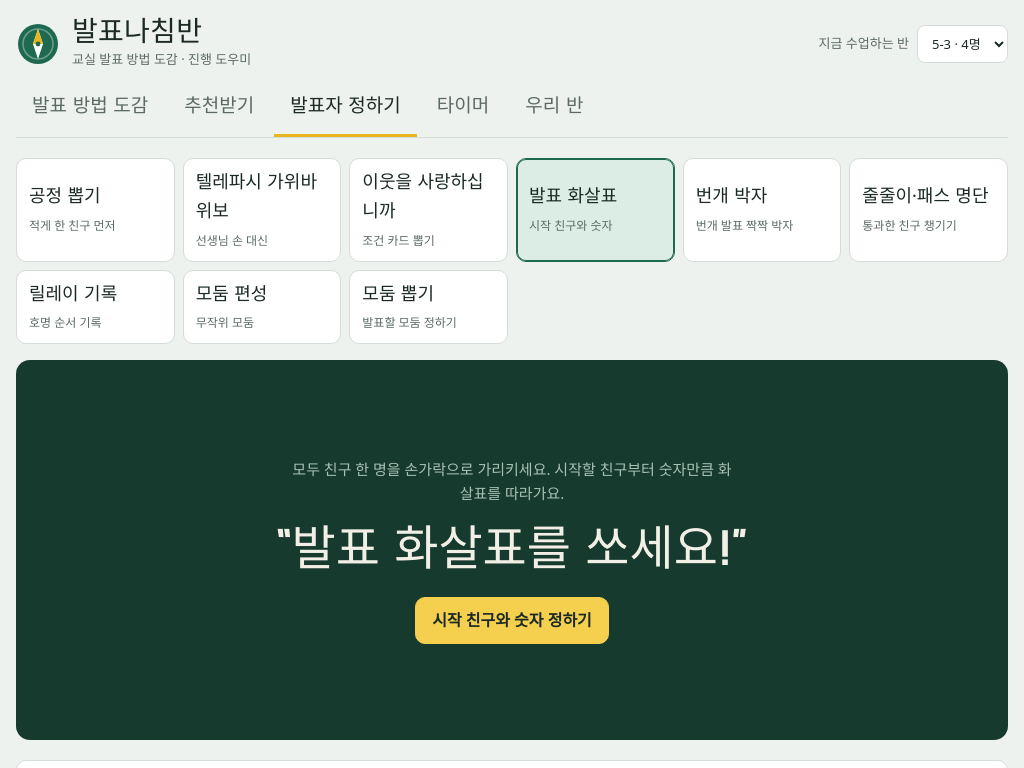
Test: 발표자 정하기 도구 › 발표 화살표: 시작 친구와 숫자를 정한다
This screenshot has width=1024, height=768.
Click the button "시작 친구와 숫자 정하기".
click(512, 620)  # box left=415, top=597, right=609, bottom=644
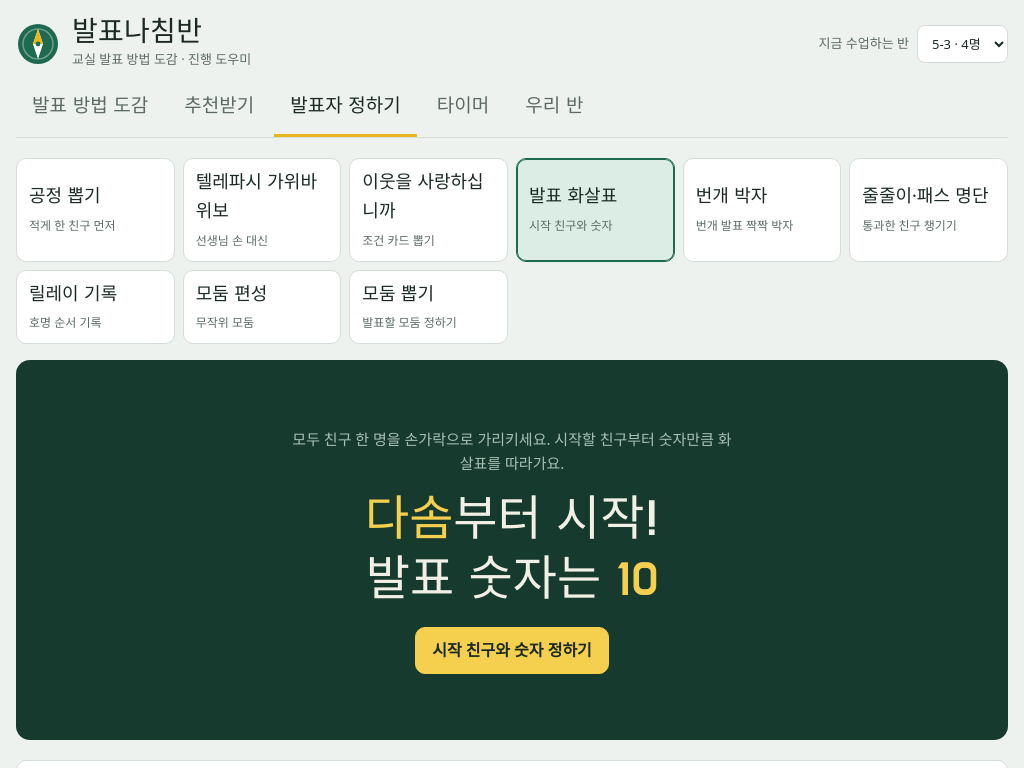
Expected: the text "부터 시작!" is shown, left=453, top=497, right=659, bottom=545
